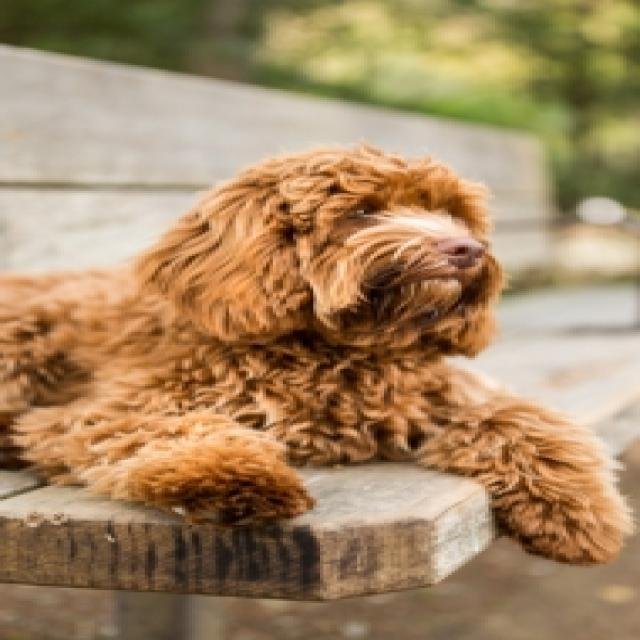dog: (107, 112, 573, 408)
